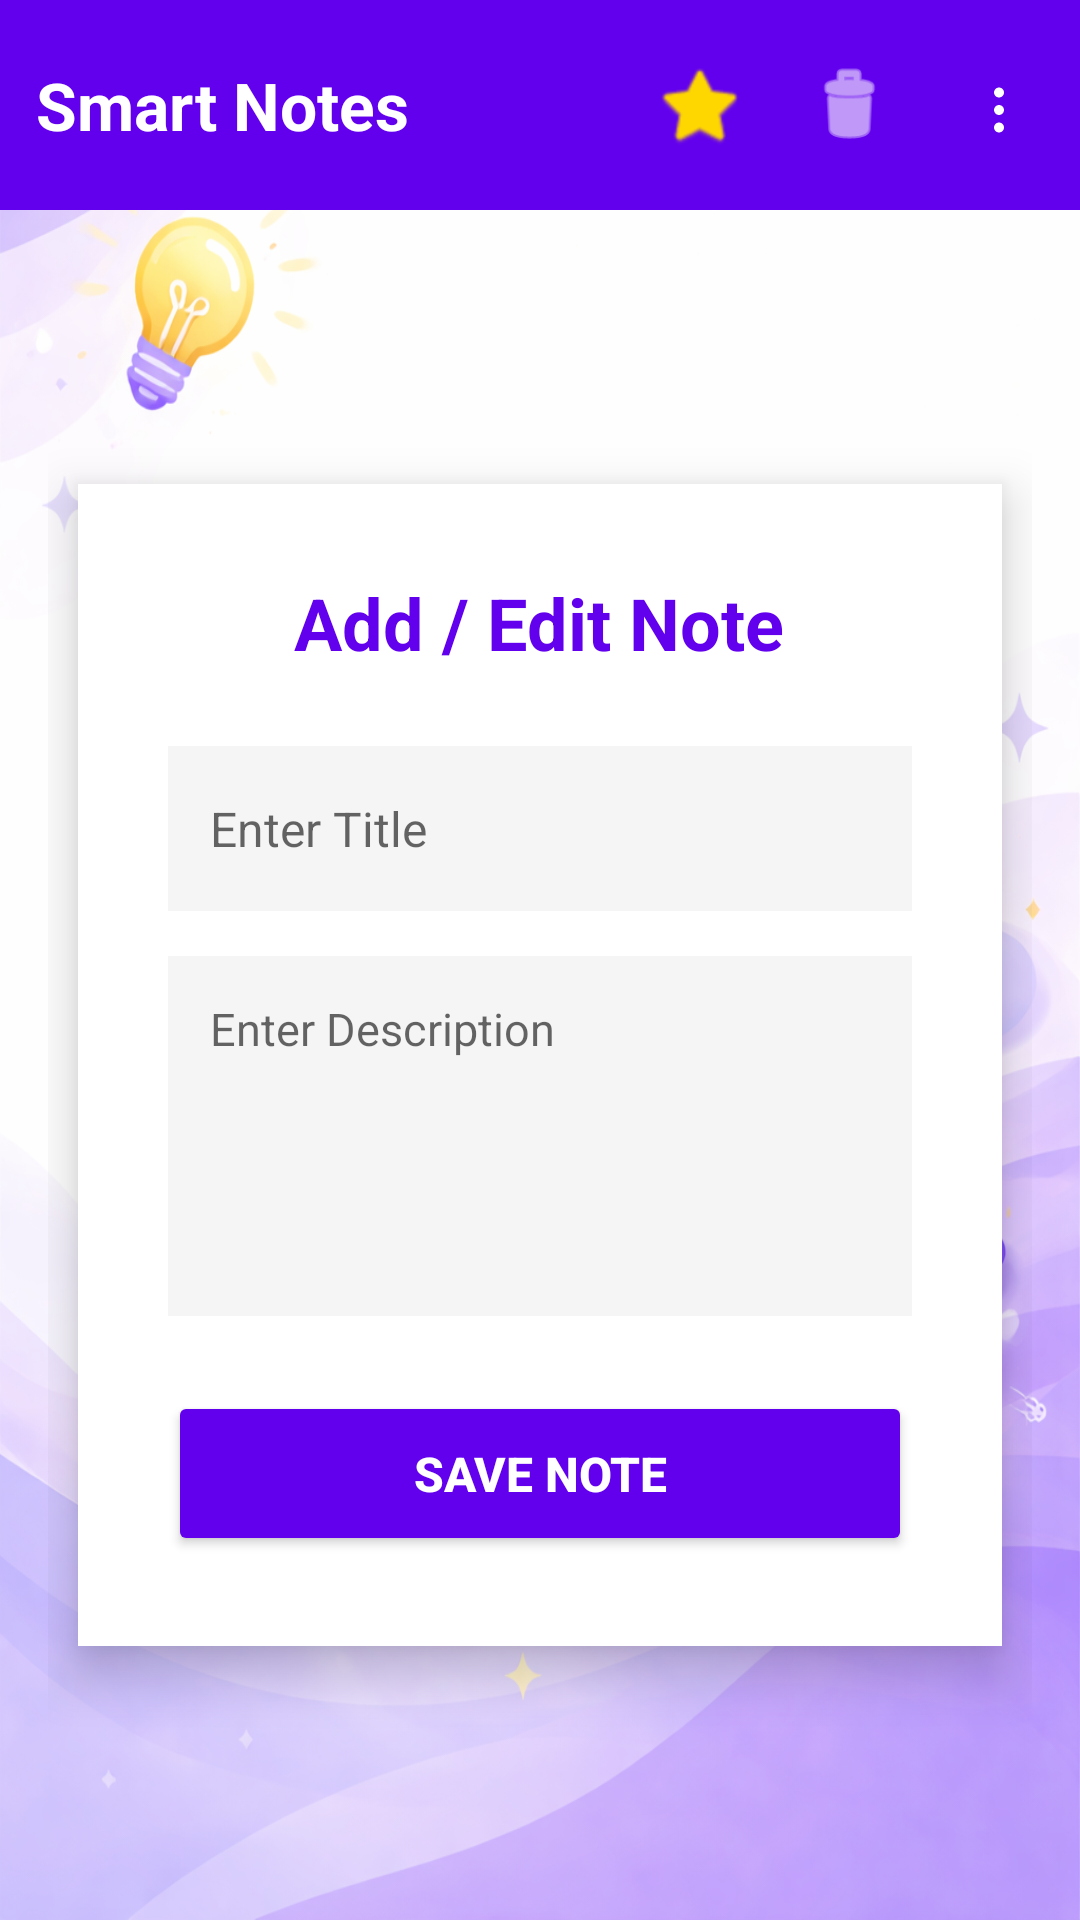

Icon bounding boxes for this 1080px x 1920px phone screenshot, format [x1, y1, x2, y2]:
delete: [824, 68, 875, 139]
more vert: [994, 87, 1004, 133]
star on: [662, 69, 737, 142]
